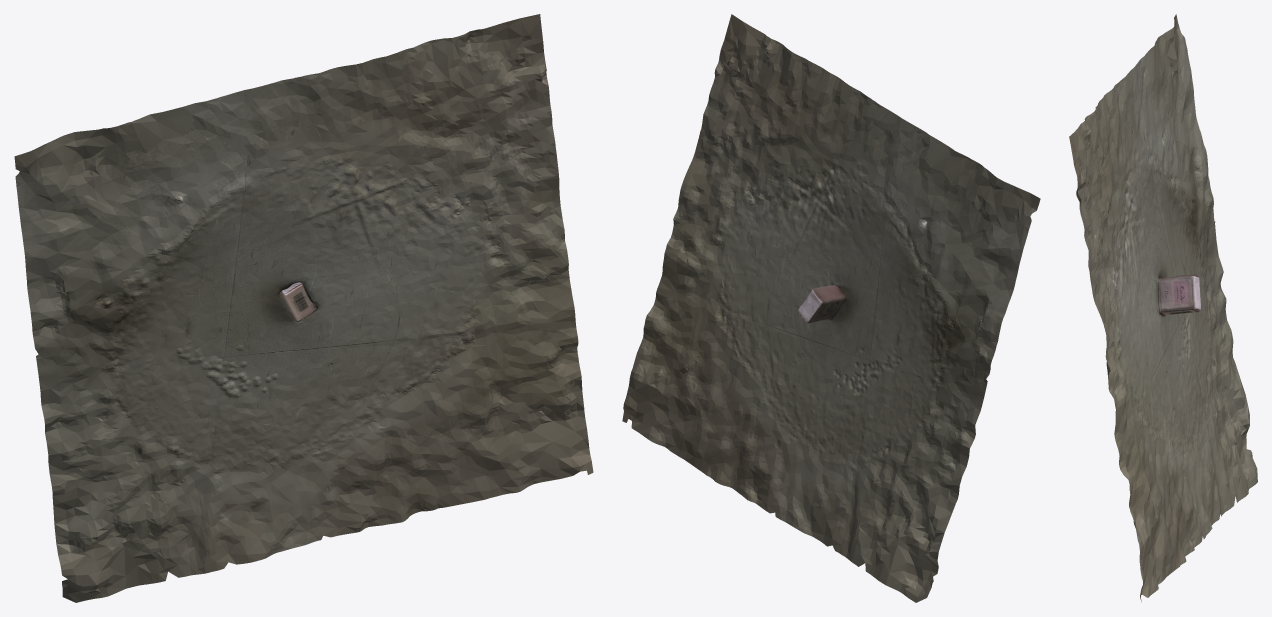
3 views of the same model, side by side, from view 1: azimuth 30°, elevation 25°; view 2: azimuth 150°, elevation 25°; view 3: azimuth 270°, elevation 25° (orthographic). The views are drawn at different scales.
Bounding box in the file's own units: 12.09 × 12.15 × 4.27.
Materials: 1 (1 with a texture image).
